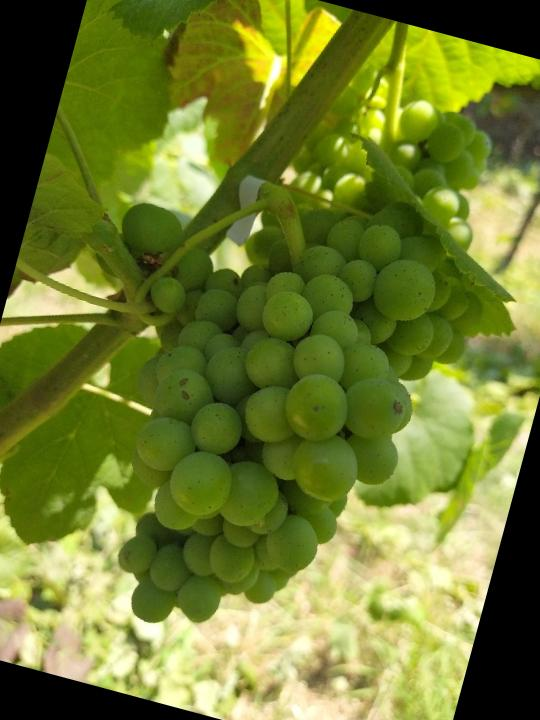grape: (20, 132, 505, 689)
